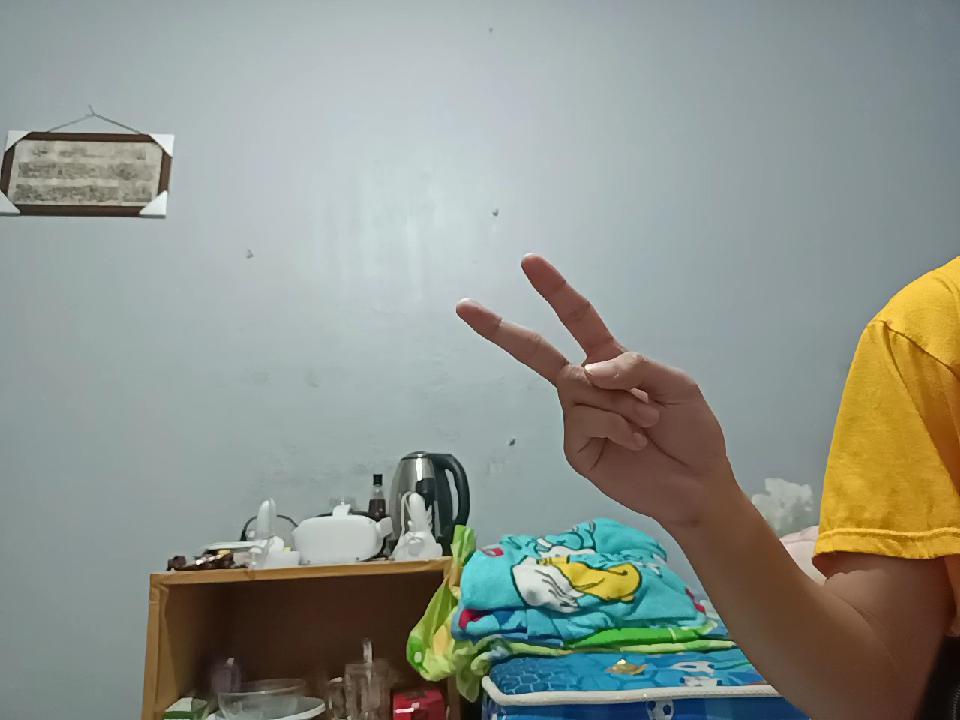scissors: (448, 247, 710, 487)
